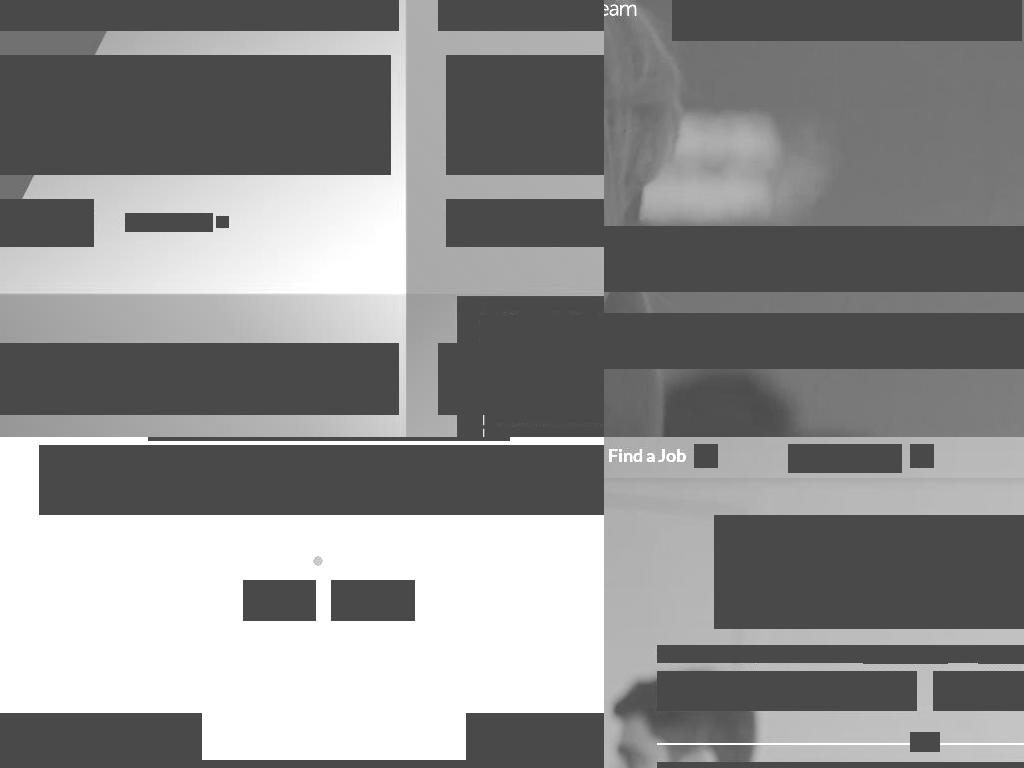button: (0, 343, 399, 415), (0, 0, 399, 31), (438, 343, 604, 415), (657, 671, 917, 711), (446, 199, 604, 247), (672, 0, 806, 41), (805, 0, 926, 41), (0, 199, 94, 247), (924, 0, 1022, 41), (933, 671, 1024, 711), (331, 580, 415, 621), (243, 580, 316, 621), (863, 645, 948, 664), (978, 645, 1024, 664)
heading: (714, 515, 1024, 629), (604, 226, 1024, 292), (604, 313, 1024, 369), (12, 359, 330, 399), (788, 444, 902, 473), (527, 359, 604, 399), (608, 444, 686, 473), (12, 0, 120, 13), (694, 444, 718, 468), (910, 444, 934, 468)
iframe: (657, 671, 917, 711)
image: (0, 713, 202, 768), (456, 352, 503, 399), (446, 0, 512, 24), (665, 679, 689, 703), (949, 681, 969, 701), (216, 216, 229, 228)
text: (0, 55, 391, 175), (39, 445, 604, 515), (446, 55, 604, 175), (480, 315, 604, 379), (657, 645, 863, 663), (694, 683, 890, 699), (125, 213, 213, 232), (343, 591, 403, 610), (494, 427, 604, 437), (965, 683, 1024, 699), (255, 591, 304, 610), (910, 732, 940, 752), (948, 645, 978, 663), (460, 301, 480, 321)
